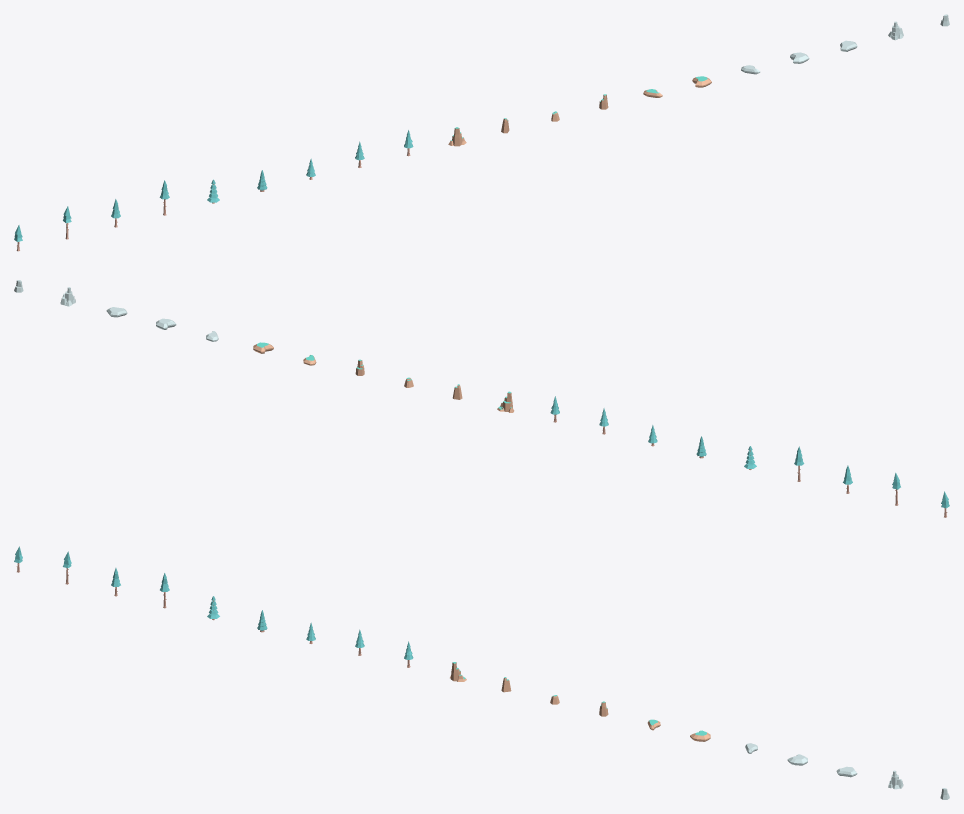
File: nature.glb
The picture shows the model from 3 angles, top to bottom: view 1: azimuth 30°, elevation 25°; view 2: azimuth 150°, elevation 25°; view 3: azimuth 330°, elevation 25°; orthographic projection.
Bounding box in the file's own units: 57.4 × 2.08 × 1.02.
